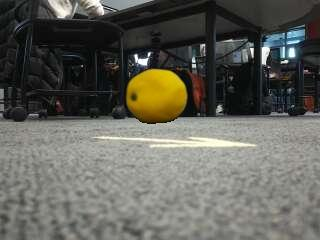lemon: (127, 70, 188, 124)
